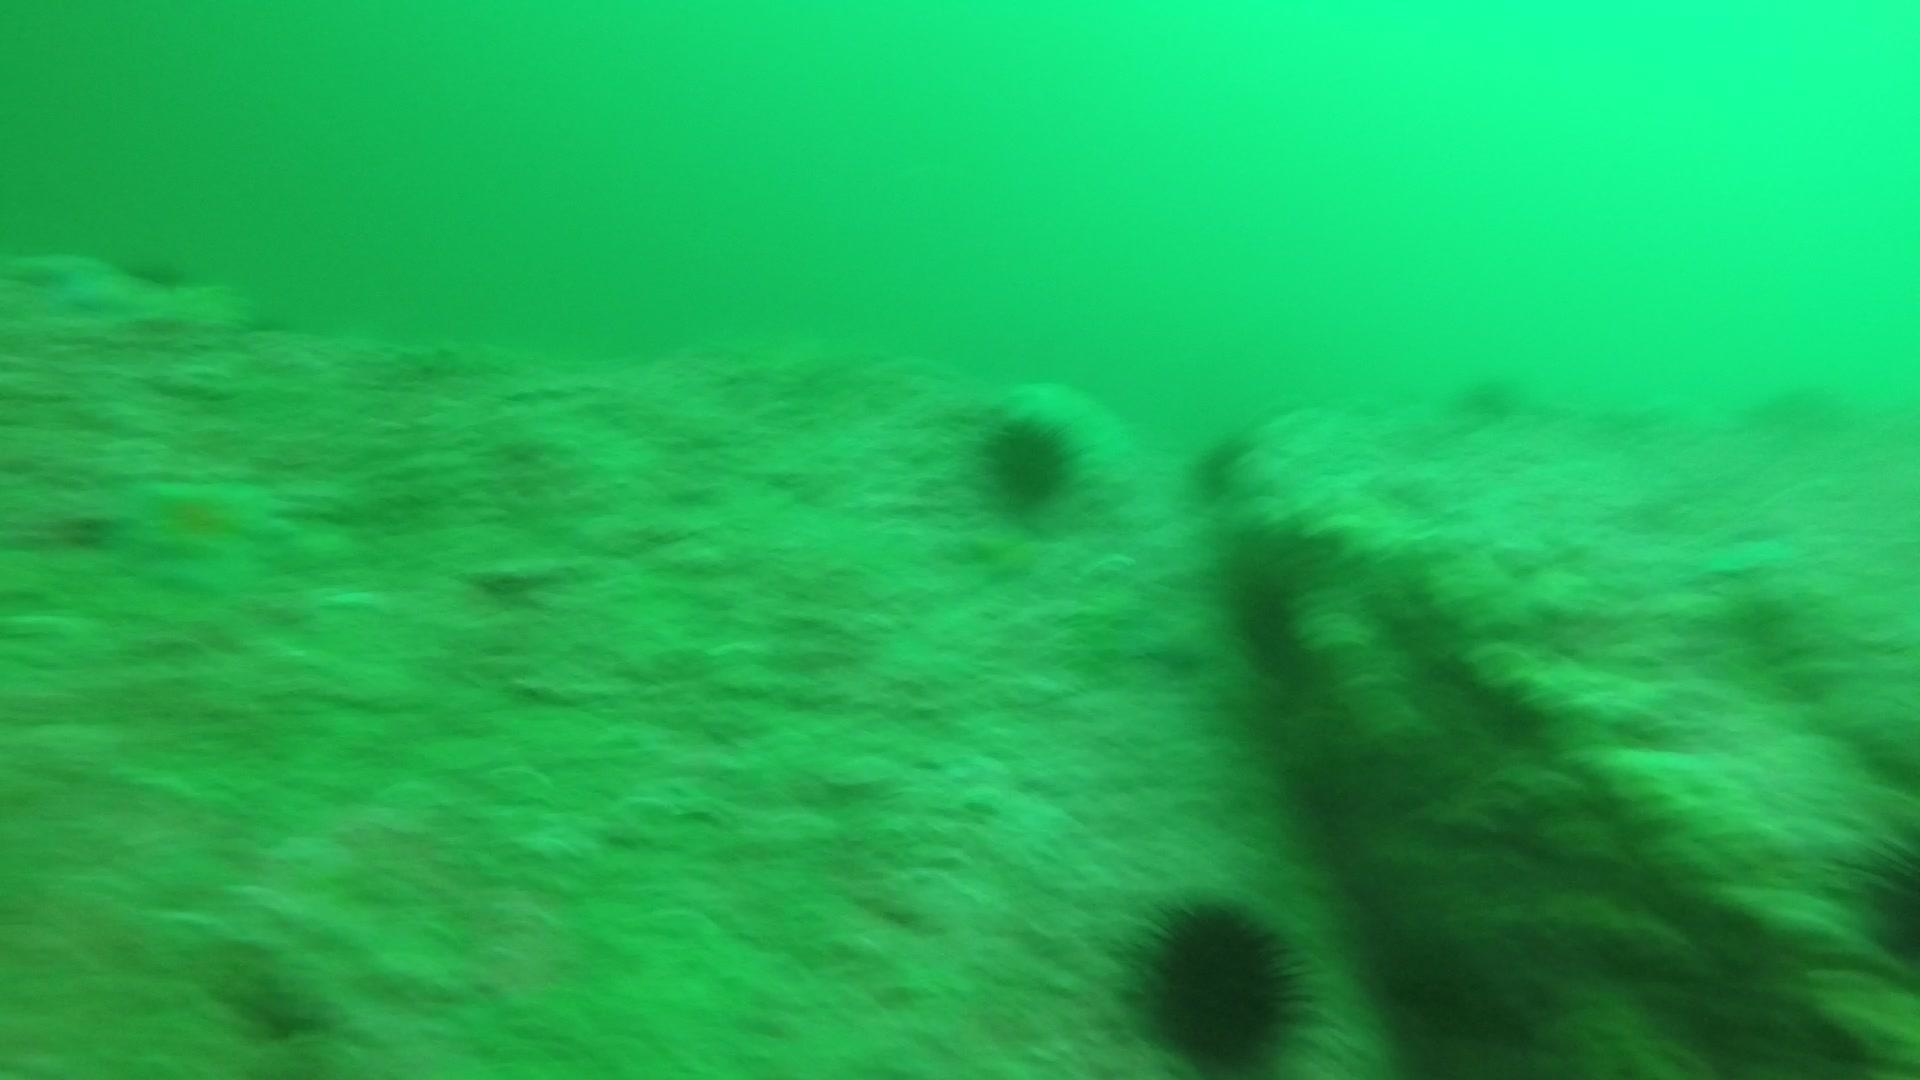echinus: (1120, 889, 1320, 1072), (971, 406, 1085, 520), (1847, 824, 1920, 967), (1184, 425, 1259, 502), (1433, 357, 1509, 435)
starfish: (102, 462, 299, 600), (7, 244, 156, 320)
